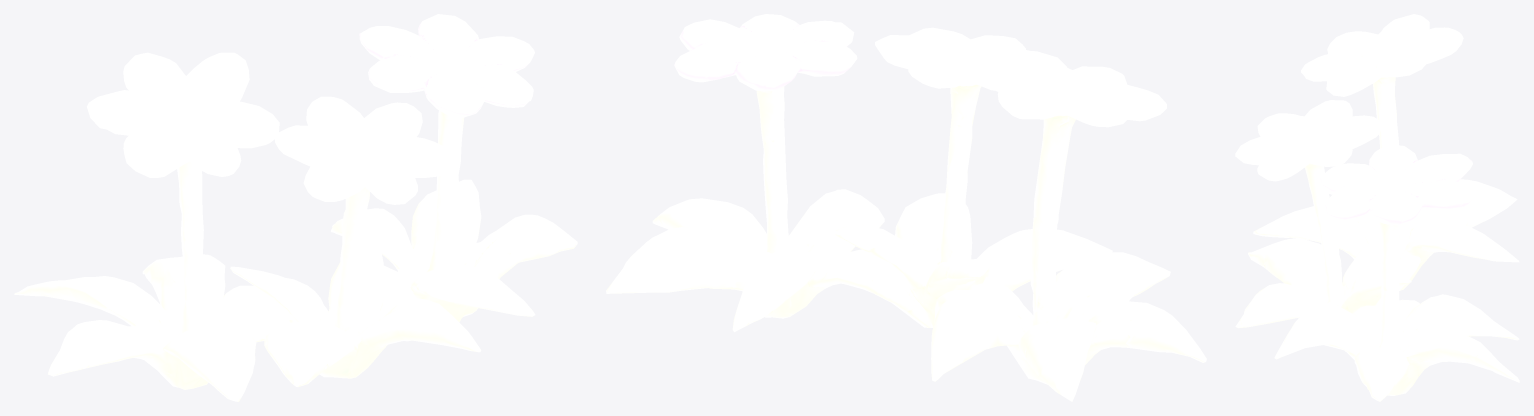
Rendered from flower.glb.
3 views of the same model, side by side, from view 1: azimuth 30°, elevation 25°; view 2: azimuth 150°, elevation 25°; view 3: azimuth 270°, elevation 25° (orthographic). The views are drawn at different scales.
Size of the model in its own units: 2.36 by 1.3 by 1.32.
Materials: 1 (1 with a texture image).
